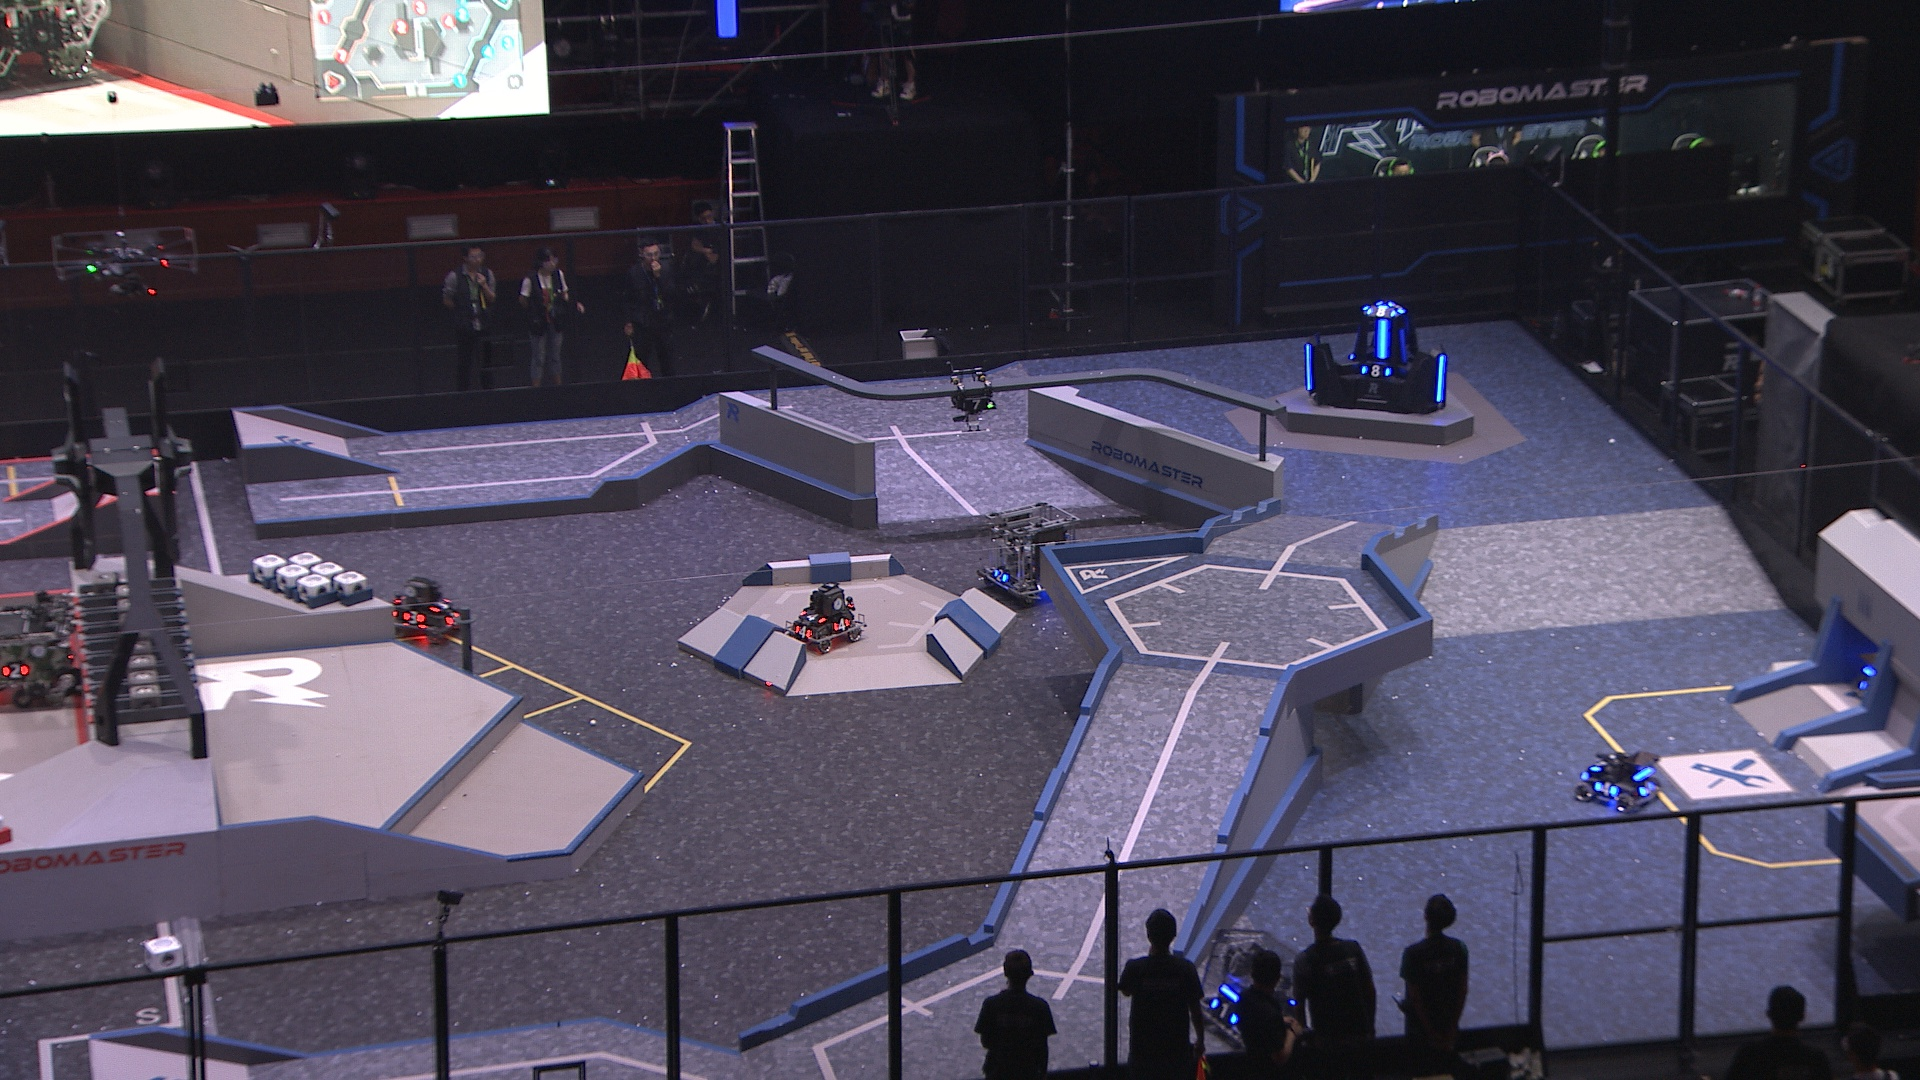armor: (1432, 351, 1452, 406), (1373, 319, 1395, 361), (1211, 997, 1240, 1027), (1299, 342, 1315, 392), (1, 659, 29, 683), (1394, 324, 1410, 365), (1360, 363, 1393, 380), (960, 398, 996, 413), (1365, 305, 1399, 319), (1594, 778, 1619, 796), (401, 608, 425, 626), (427, 597, 454, 613), (444, 609, 465, 628), (793, 622, 814, 641), (992, 566, 1010, 585), (799, 609, 825, 622), (1590, 756, 1610, 773), (831, 615, 851, 632), (1636, 782, 1658, 798), (1386, 299, 1404, 314)
base: (1296, 291, 1456, 415)
car: (1197, 922, 1317, 1058), (972, 500, 1081, 604), (1576, 740, 1665, 816), (384, 571, 475, 645), (782, 579, 865, 655)
watcher: (944, 357, 997, 436)
